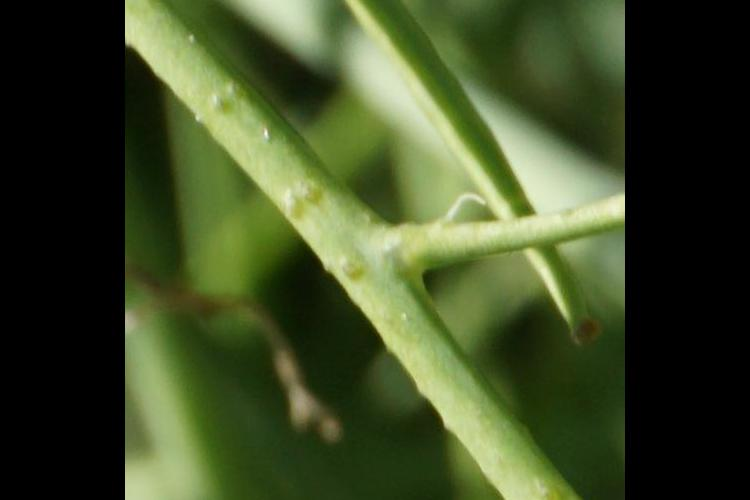pod: (429, 1, 582, 396)
